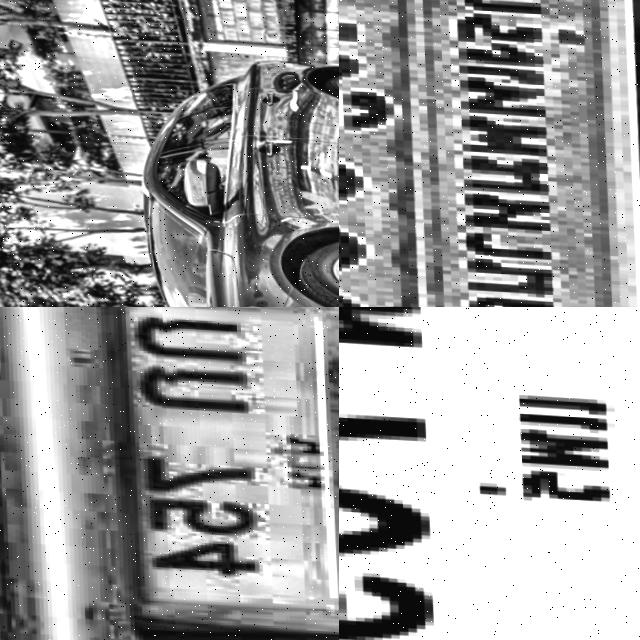license-plate: (339, 307, 640, 640), (339, 0, 640, 307), (87, 307, 339, 630)
